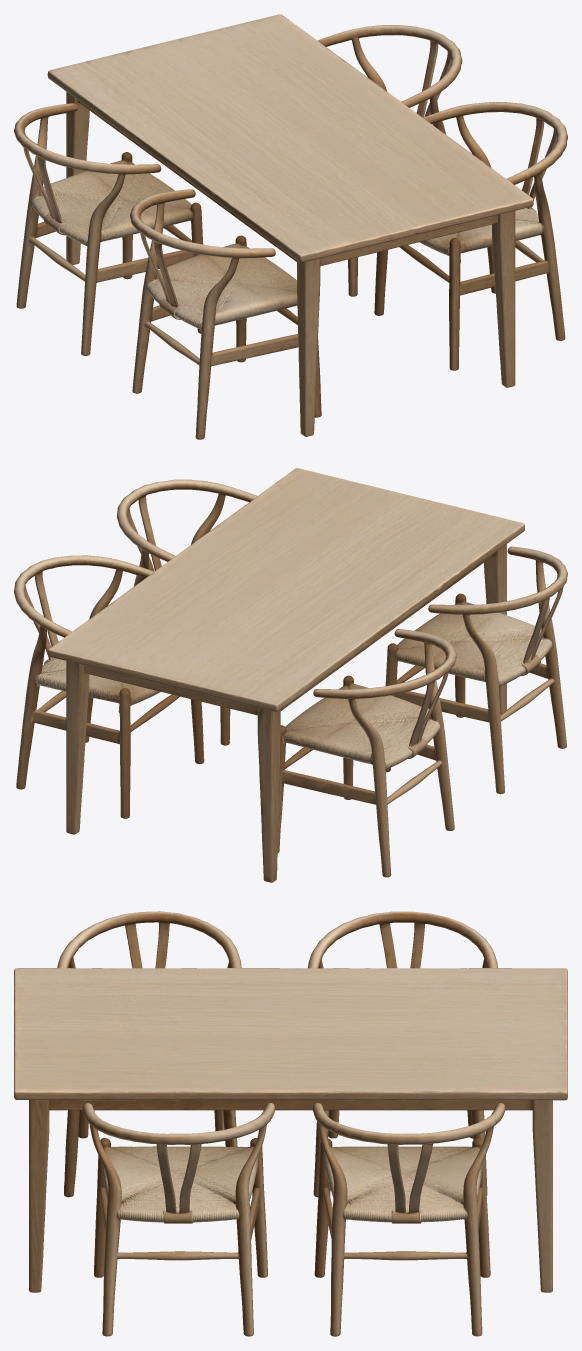
The model's file is table-repas.glb.
The picture shows the model from 3 angles, top to bottom: view 1: azimuth 30°, elevation 25°; view 2: azimuth 150°, elevation 25°; view 3: azimuth 270°, elevation 25°; orthographic projection. The views are drawn at different scales.
Visible parts, largest first — view 1: tripo_node_2ed5c4de-7e81-4478-ad2b-17ba81eee333; view 2: tripo_node_2ed5c4de-7e81-4478-ad2b-17ba81eee333; view 3: tripo_node_2ed5c4de-7e81-4478-ad2b-17ba81eee333.
Part boxes in pixels (left/top/right/bottom): tripo_node_2ed5c4de-7e81-4478-ad2b-17ba81eee333: left=14, top=14, right=567, bottom=439; tripo_node_2ed5c4de-7e81-4478-ad2b-17ba81eee333: left=14, top=468, right=567, bottom=882; tripo_node_2ed5c4de-7e81-4478-ad2b-17ba81eee333: left=14, top=911, right=567, bottom=1336.
Bounding box in the file's own units: 0.953 × 0.4181 × 0.9817.
Materials: 1 (1 with a texture image).
